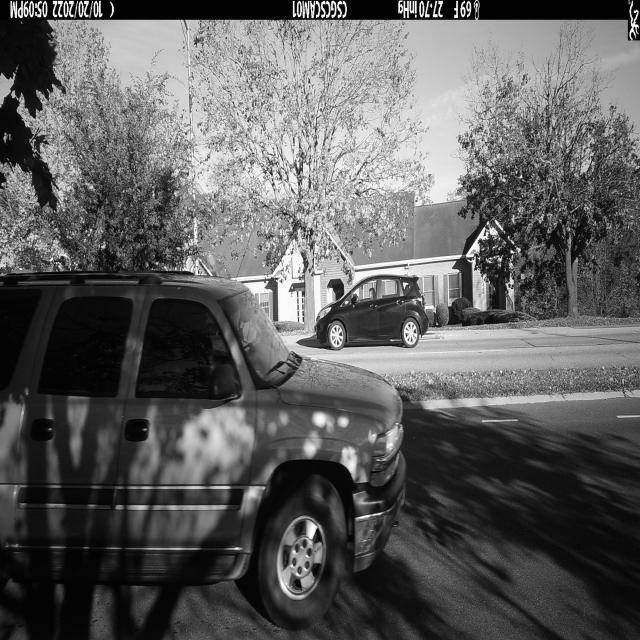Hatchback: (316, 273, 430, 350)
SUV: (0, 270, 408, 633)
